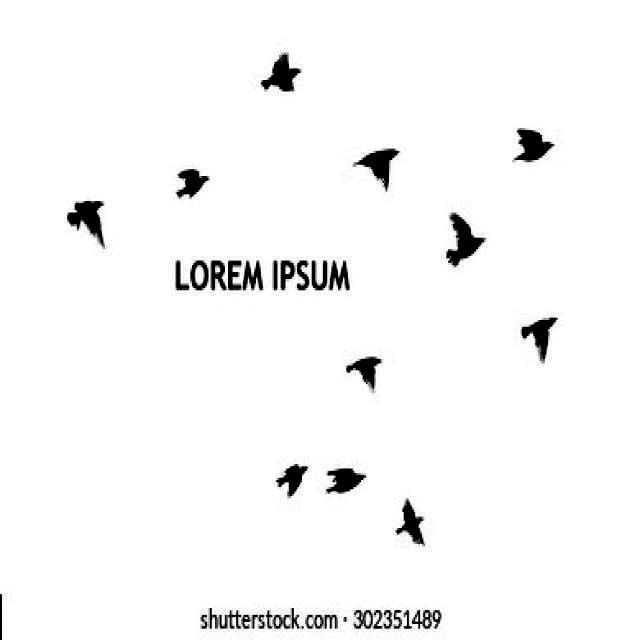bird: (438, 208, 492, 268), (64, 188, 110, 254), (350, 142, 400, 193), (516, 312, 562, 366), (256, 50, 306, 99), (320, 462, 372, 507), (337, 350, 385, 398), (168, 162, 214, 210), (393, 494, 432, 548), (508, 121, 553, 165), (271, 456, 311, 502)
